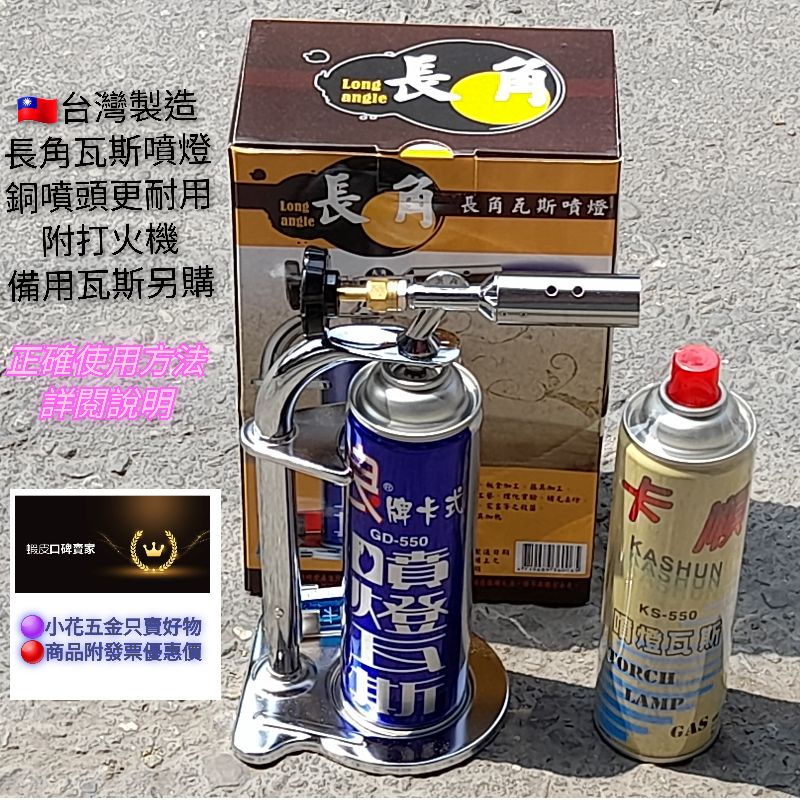gastorch: (255, 243, 646, 769)
